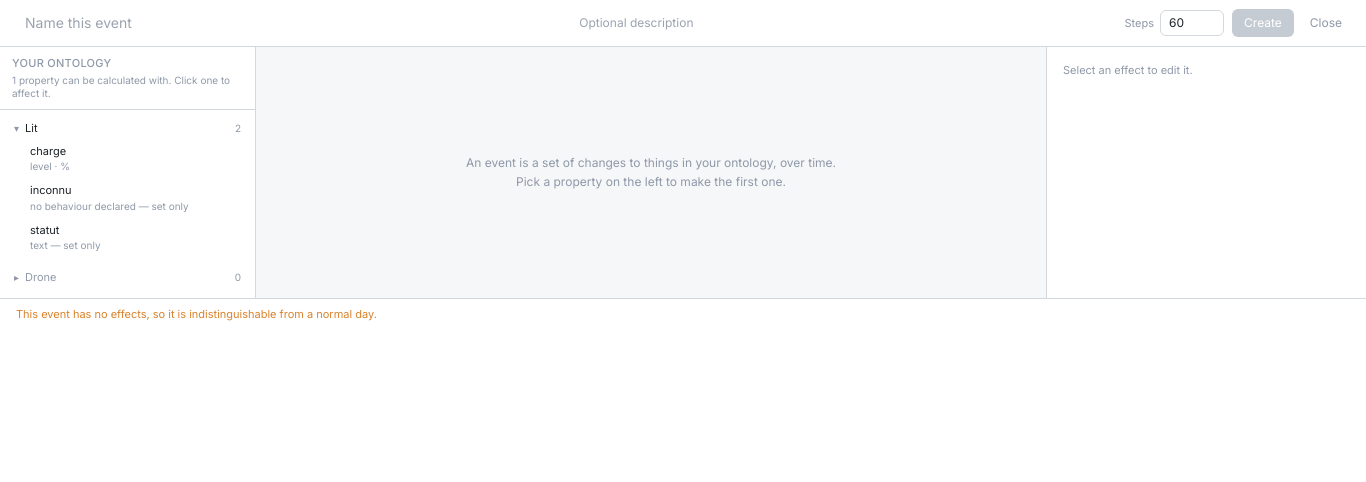
it: picking a property › creates an effect on it
Click the button with aria-label "Affect charge on Lit".
click(128, 158)  # box [6,140,249,176]
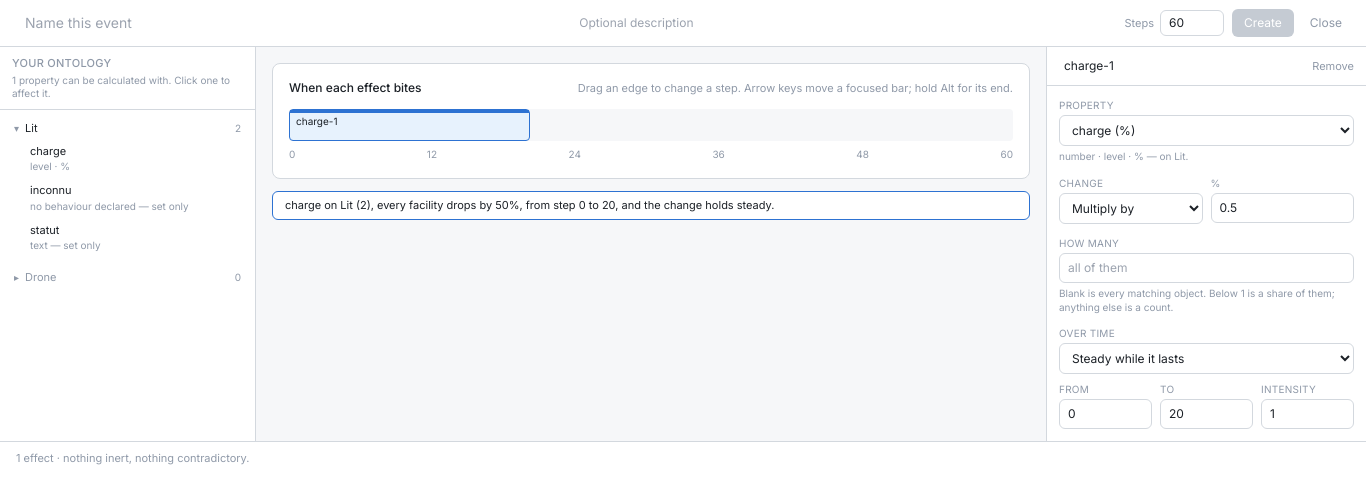
Check: the field named "Effect name" is shown, box [1059,55,1304,77]
Check: the dropdown named "Property to change" shows "charge (%)", box [1059,115,1354,146]
